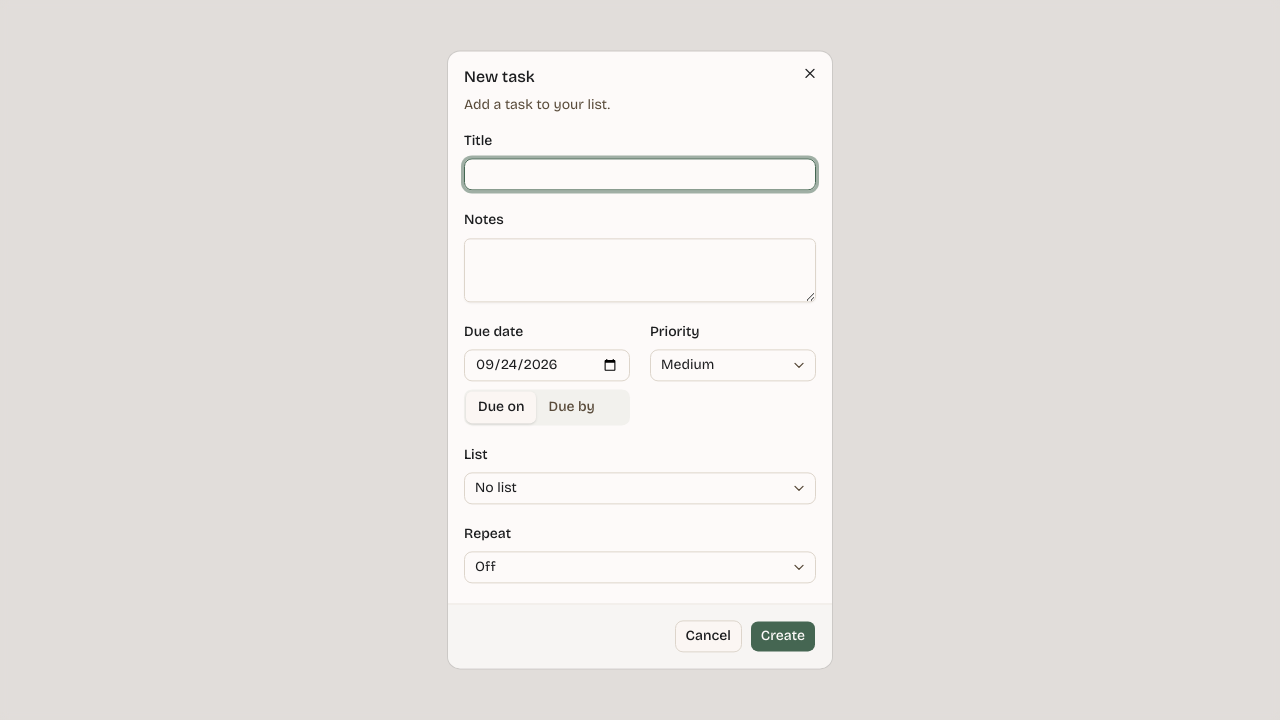
Test: TaskDialog › puts a server field error on the field that caused it
The width and height of the screenshot is (1280, 720).
Type "Pay rent" into the field labelled "Title".
click(640, 175); type("Pay rent")  # box [464,159,816,191]
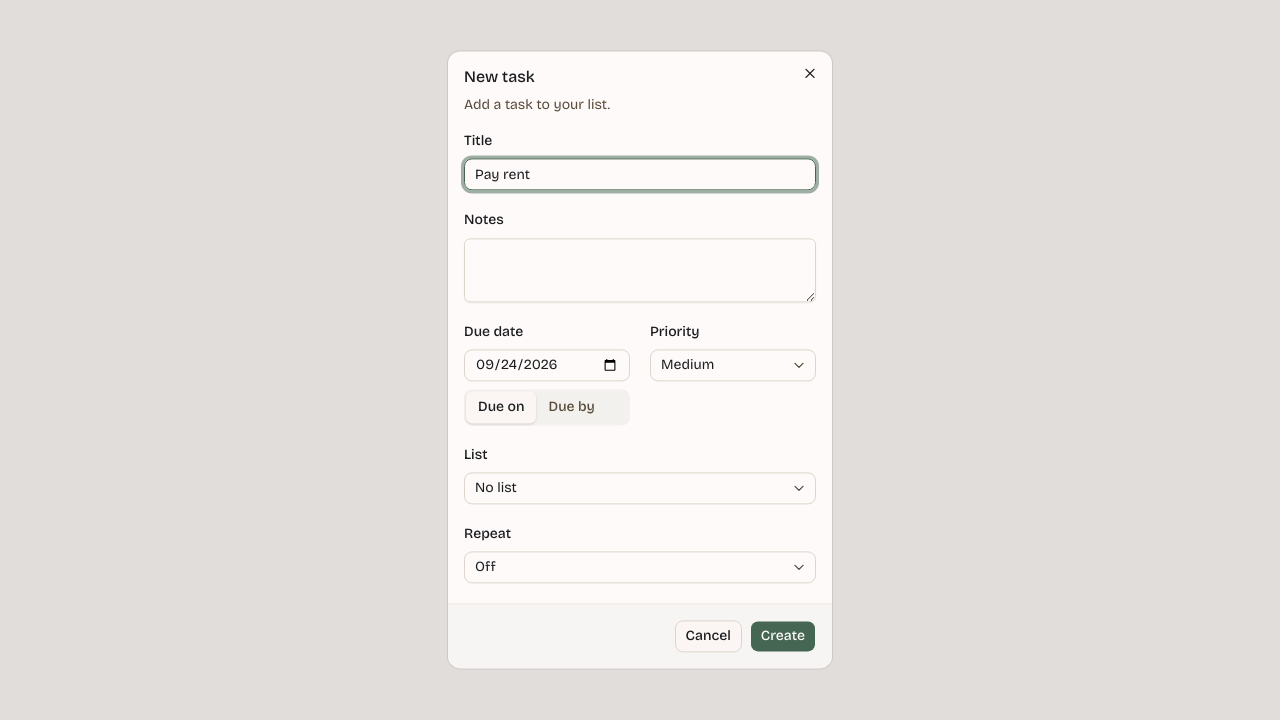
Click the button "Create".
click(783, 637)  # box [750,621,816,653]
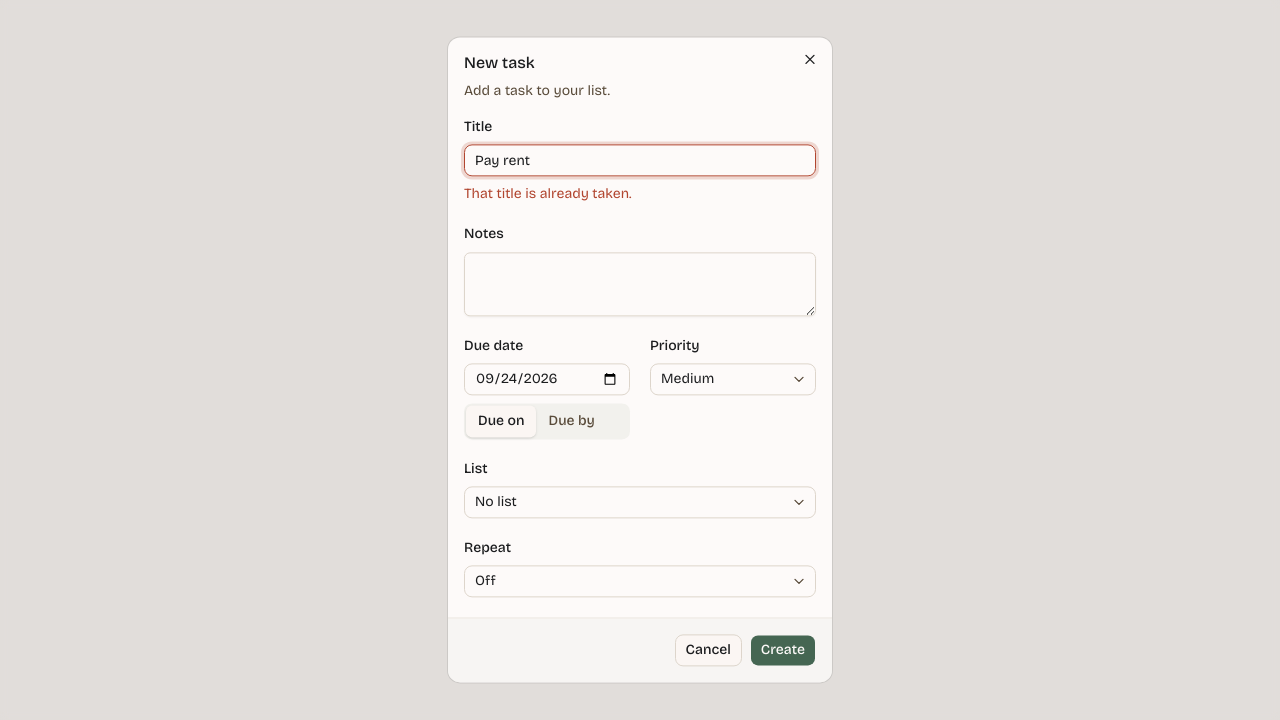
Now the text "That title is already taken." is shown, box [464,186,632,203]
